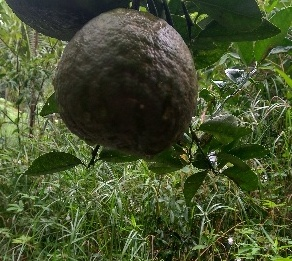Cam: (52, 6, 200, 155)
